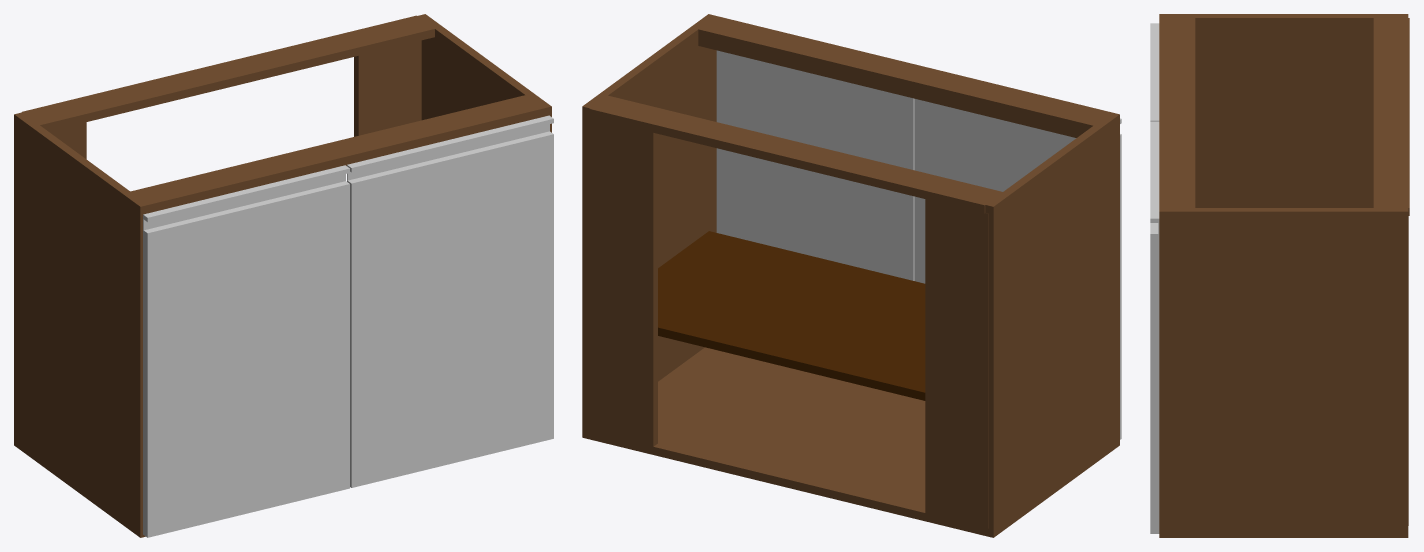
The model's file is proyecto.glb.
The picture shows the model from 3 angles, left to right: view 1: azimuth 30°, elevation 25°; view 2: azimuth 150°, elevation 25°; view 3: azimuth 270°, elevation 25°; orthographic projection.
Visible parts, largest first — view 1: P002, P010, P004, P009, P006, P001, P007, P011; view 2: P004, P005, P010, P003, P007, P011, P001, P002, P006, P009, P008; view 3: P001, P004, P006, P009, P010, P002.
Part boxes in pixels (left/top/right/bottom): P002: left=143, top=165, right=349, bottom=537; P010: left=347, top=115, right=553, bottom=487; P004: left=14, top=112, right=148, bottom=537; P009: left=130, top=95, right=543, bottom=212; P006: left=22, top=15, right=434, bottom=131; P001: left=418, top=14, right=551, bottom=132; P007: left=354, top=40, right=421, bottom=136; P011: left=48, top=122, right=86, bottom=159; P004: left=985, top=112, right=1119, bottom=537; P005: left=590, top=347, right=985, bottom=535; P010: left=716, top=50, right=914, bottom=280; P003: left=658, top=231, right=925, bottom=400; P007: left=590, top=117, right=657, bottom=446; P011: left=925, top=199, right=988, bottom=528; P001: left=582, top=14, right=716, bottom=439; P002: left=914, top=99, right=1121, bottom=439; P006: left=589, top=95, right=1002, bottom=213; P009: left=698, top=16, right=1111, bottom=131; P008: left=698, top=37, right=1084, bottom=137; P001: left=1159, top=208, right=1408, bottom=537; P004: left=1159, top=14, right=1408, bottom=207; P006: left=1373, top=18, right=1409, bottom=215; P009: left=1159, top=18, right=1195, bottom=207; P010: left=1150, top=121, right=1159, bottom=533; P002: left=1150, top=23, right=1159, bottom=121.
Size of the model in its own units: 0.78 by 0.6 by 0.432.
